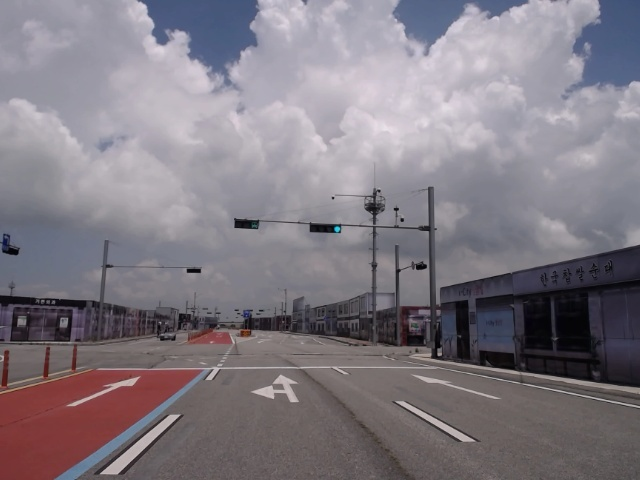straight_green_4: (309, 225, 341, 235)
